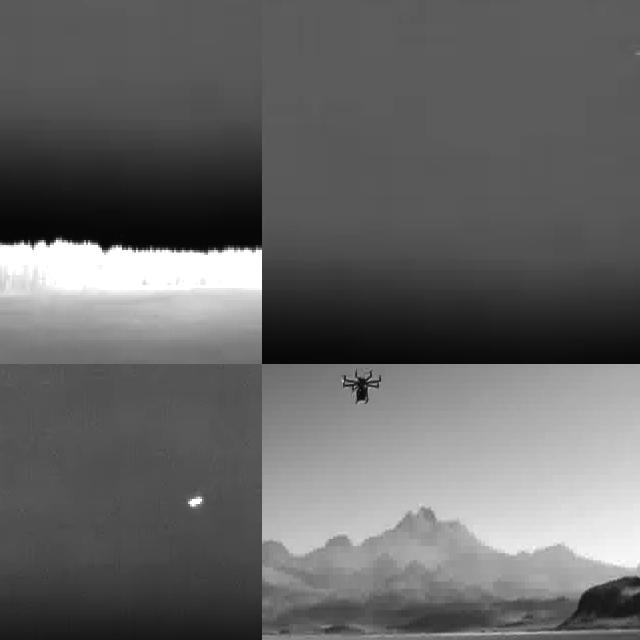0: (632, 40, 640, 70)
1: (180, 489, 216, 519)
drone: (342, 365, 384, 411)
